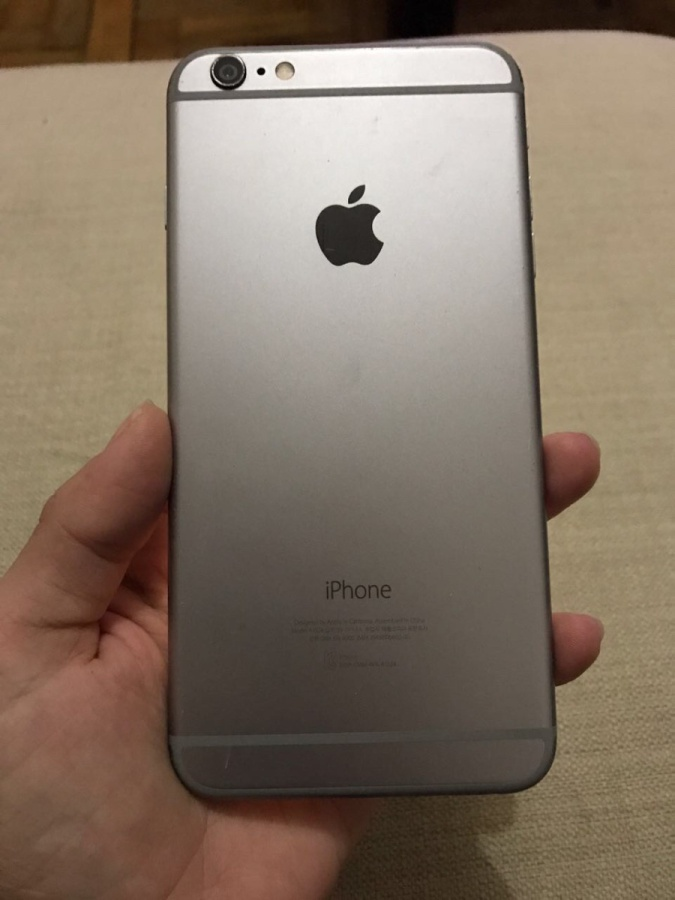apple: (297, 171, 454, 280)
